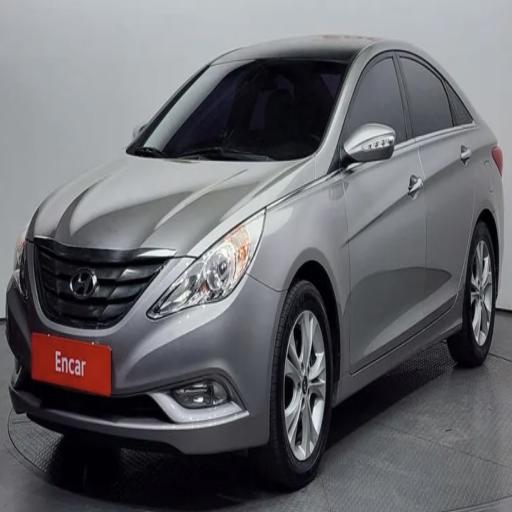normal: (10, 6, 488, 481)
